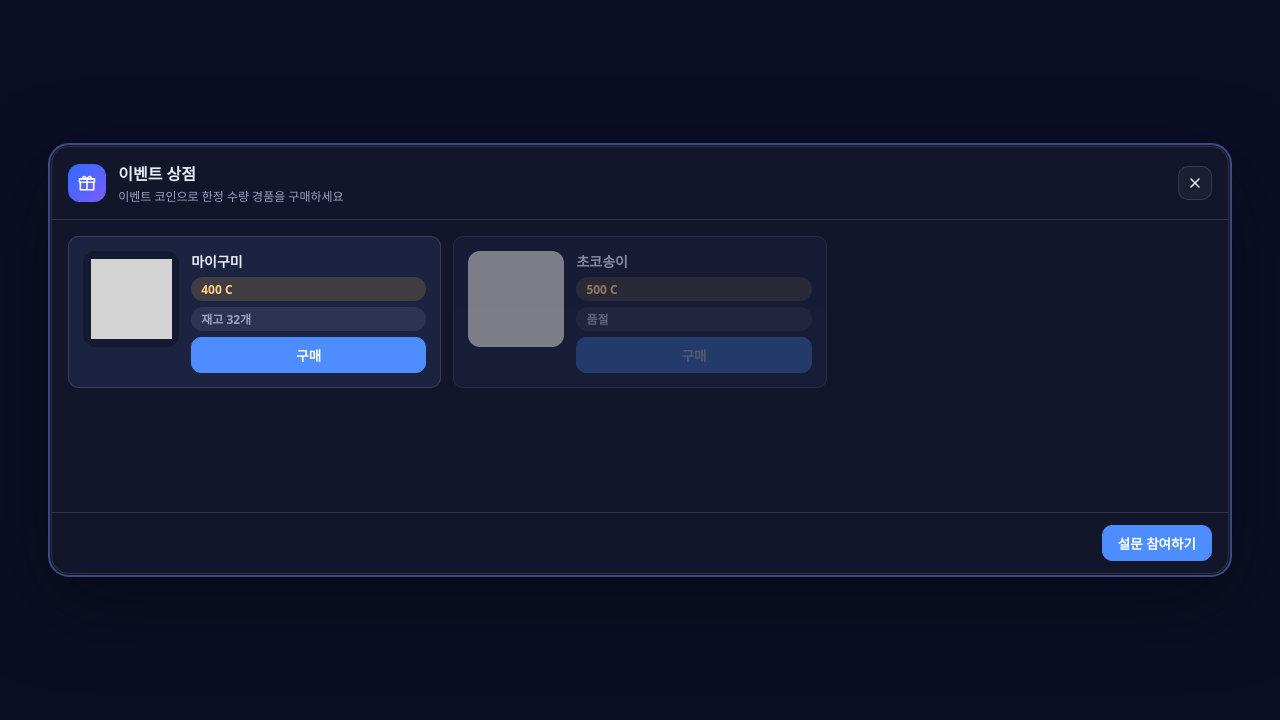
Test case: 경품이 들어온 뒤 › 구매를 누르면 받는 자 정보를 먼저 받고, 그다음 idempotency key를 붙여 구매를 보낸다
Click the button "구매" below "재고 32개": (309, 355) [191,337,426,373]
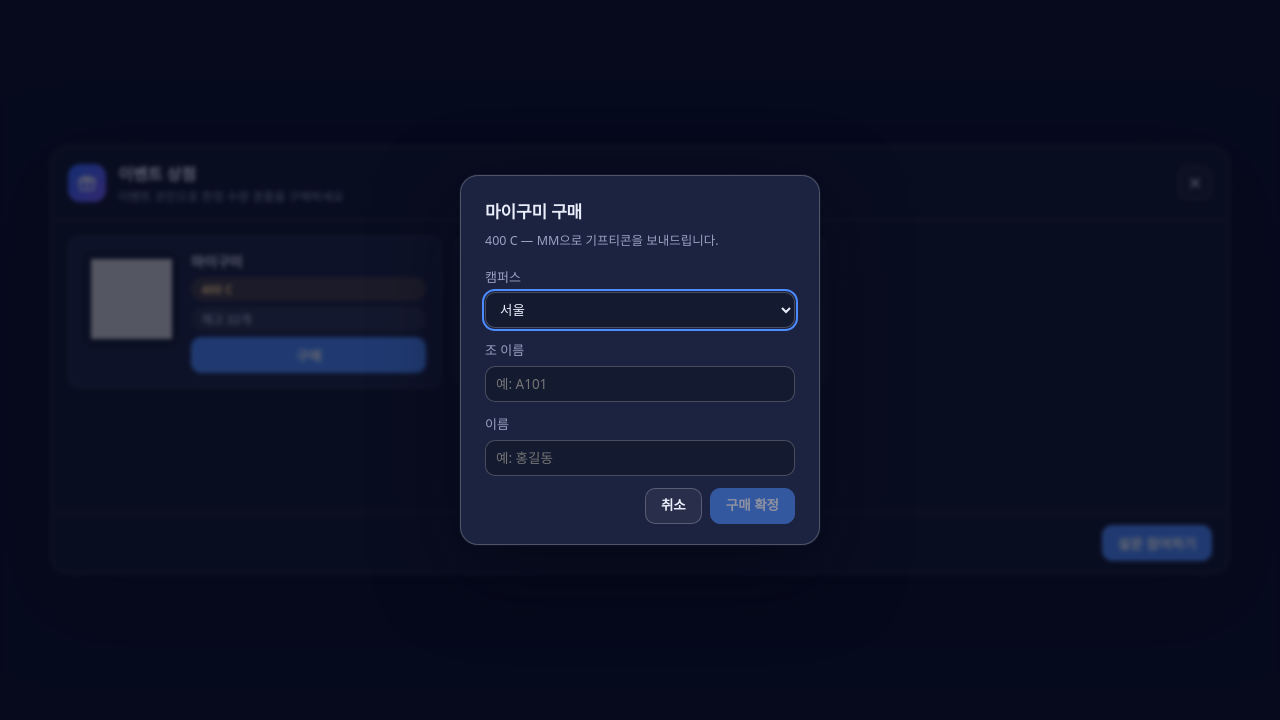
expect the button "구매 확정" is shown: met, box [710,488,795,524]
In the field labelled "조 이름": (640, 384) [485,366,795,402], type "A101"
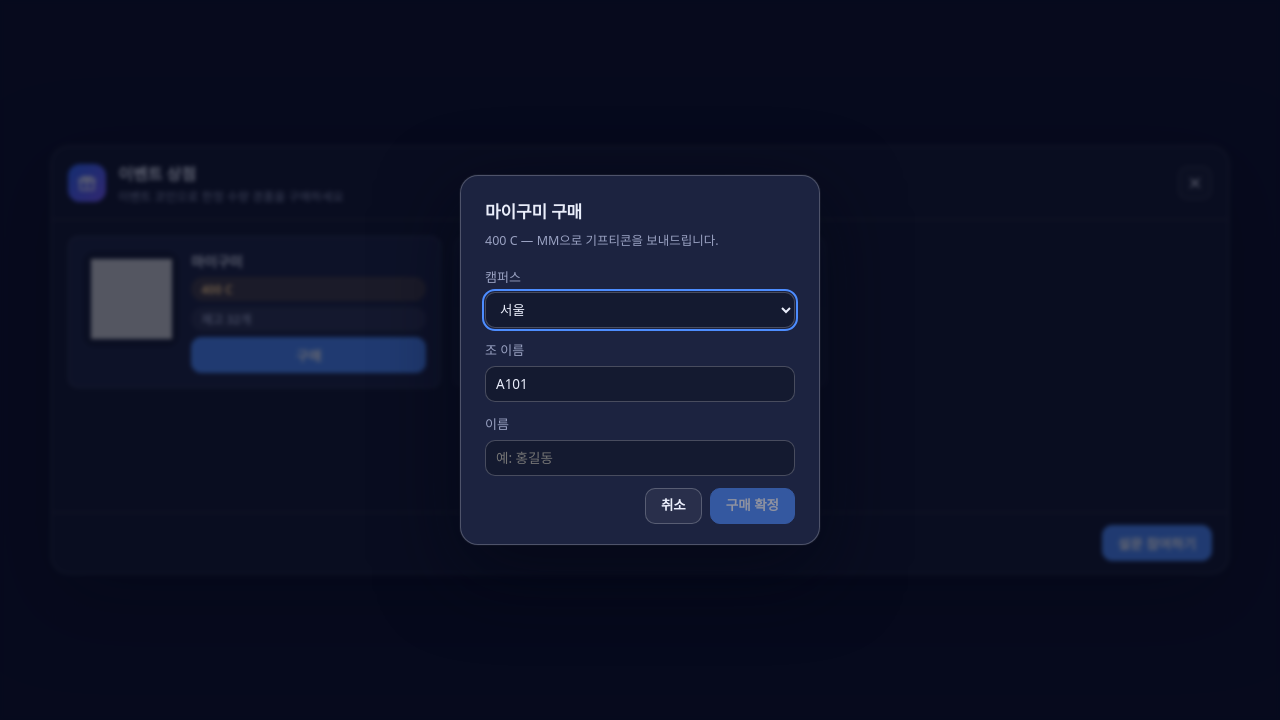
In the field labelled "이름": (640, 458) [485,440,795,476], type "홍길동"
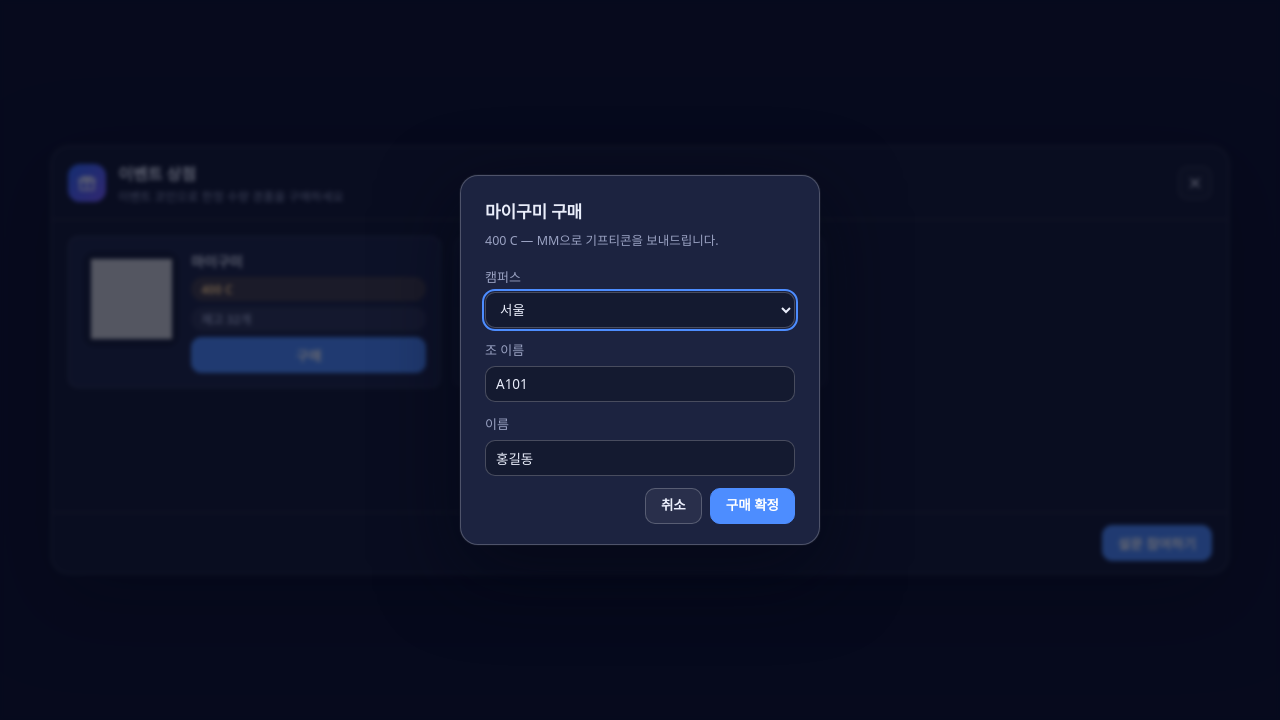
Click the button "구매 확정": (752, 506) [710,488,795,524]
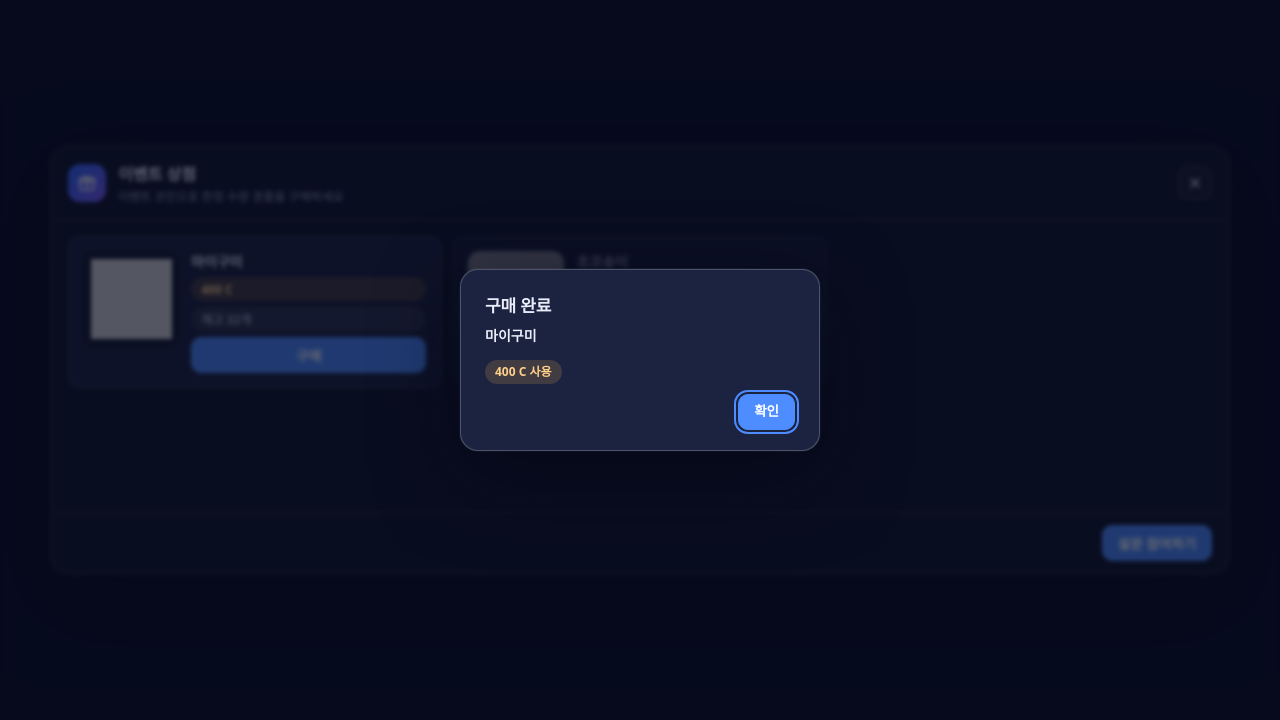
expect the heading "구매 완료" is shown: met, box [485,294,551,317]
expect the text "400 C 사용" is shown: met, box [485,360,562,384]
Click the button "확인": (767, 412) [738,394,795,430]
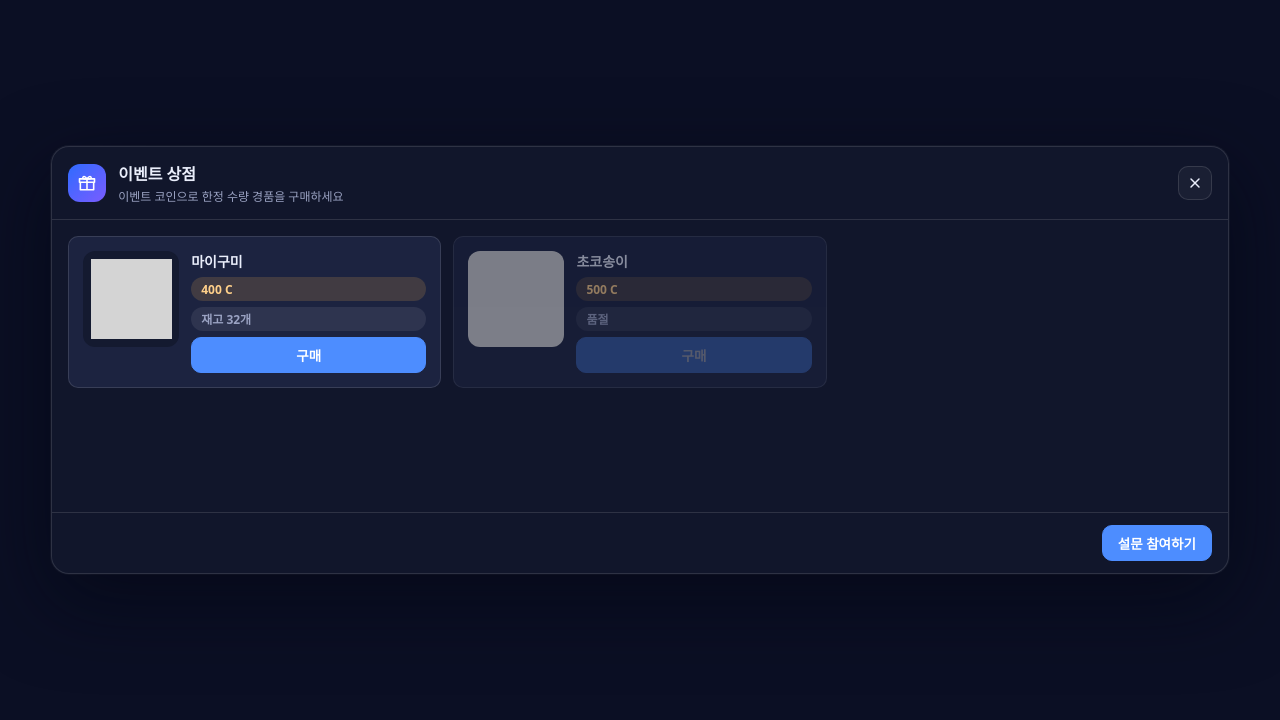
expect the heading "구매 완료" is gone: met
